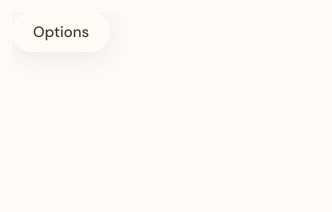
Test: Popover › opens when trigger is clicked
This screenshot has width=332, height=212.
Click the button "Options": (61, 32) x1=12 y1=12 x2=110 y2=52
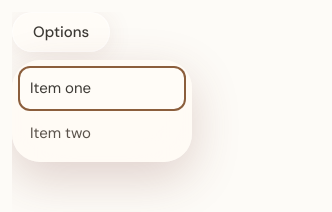
Expected: the menu is shown, x1=12 y1=60 x2=192 y2=162
